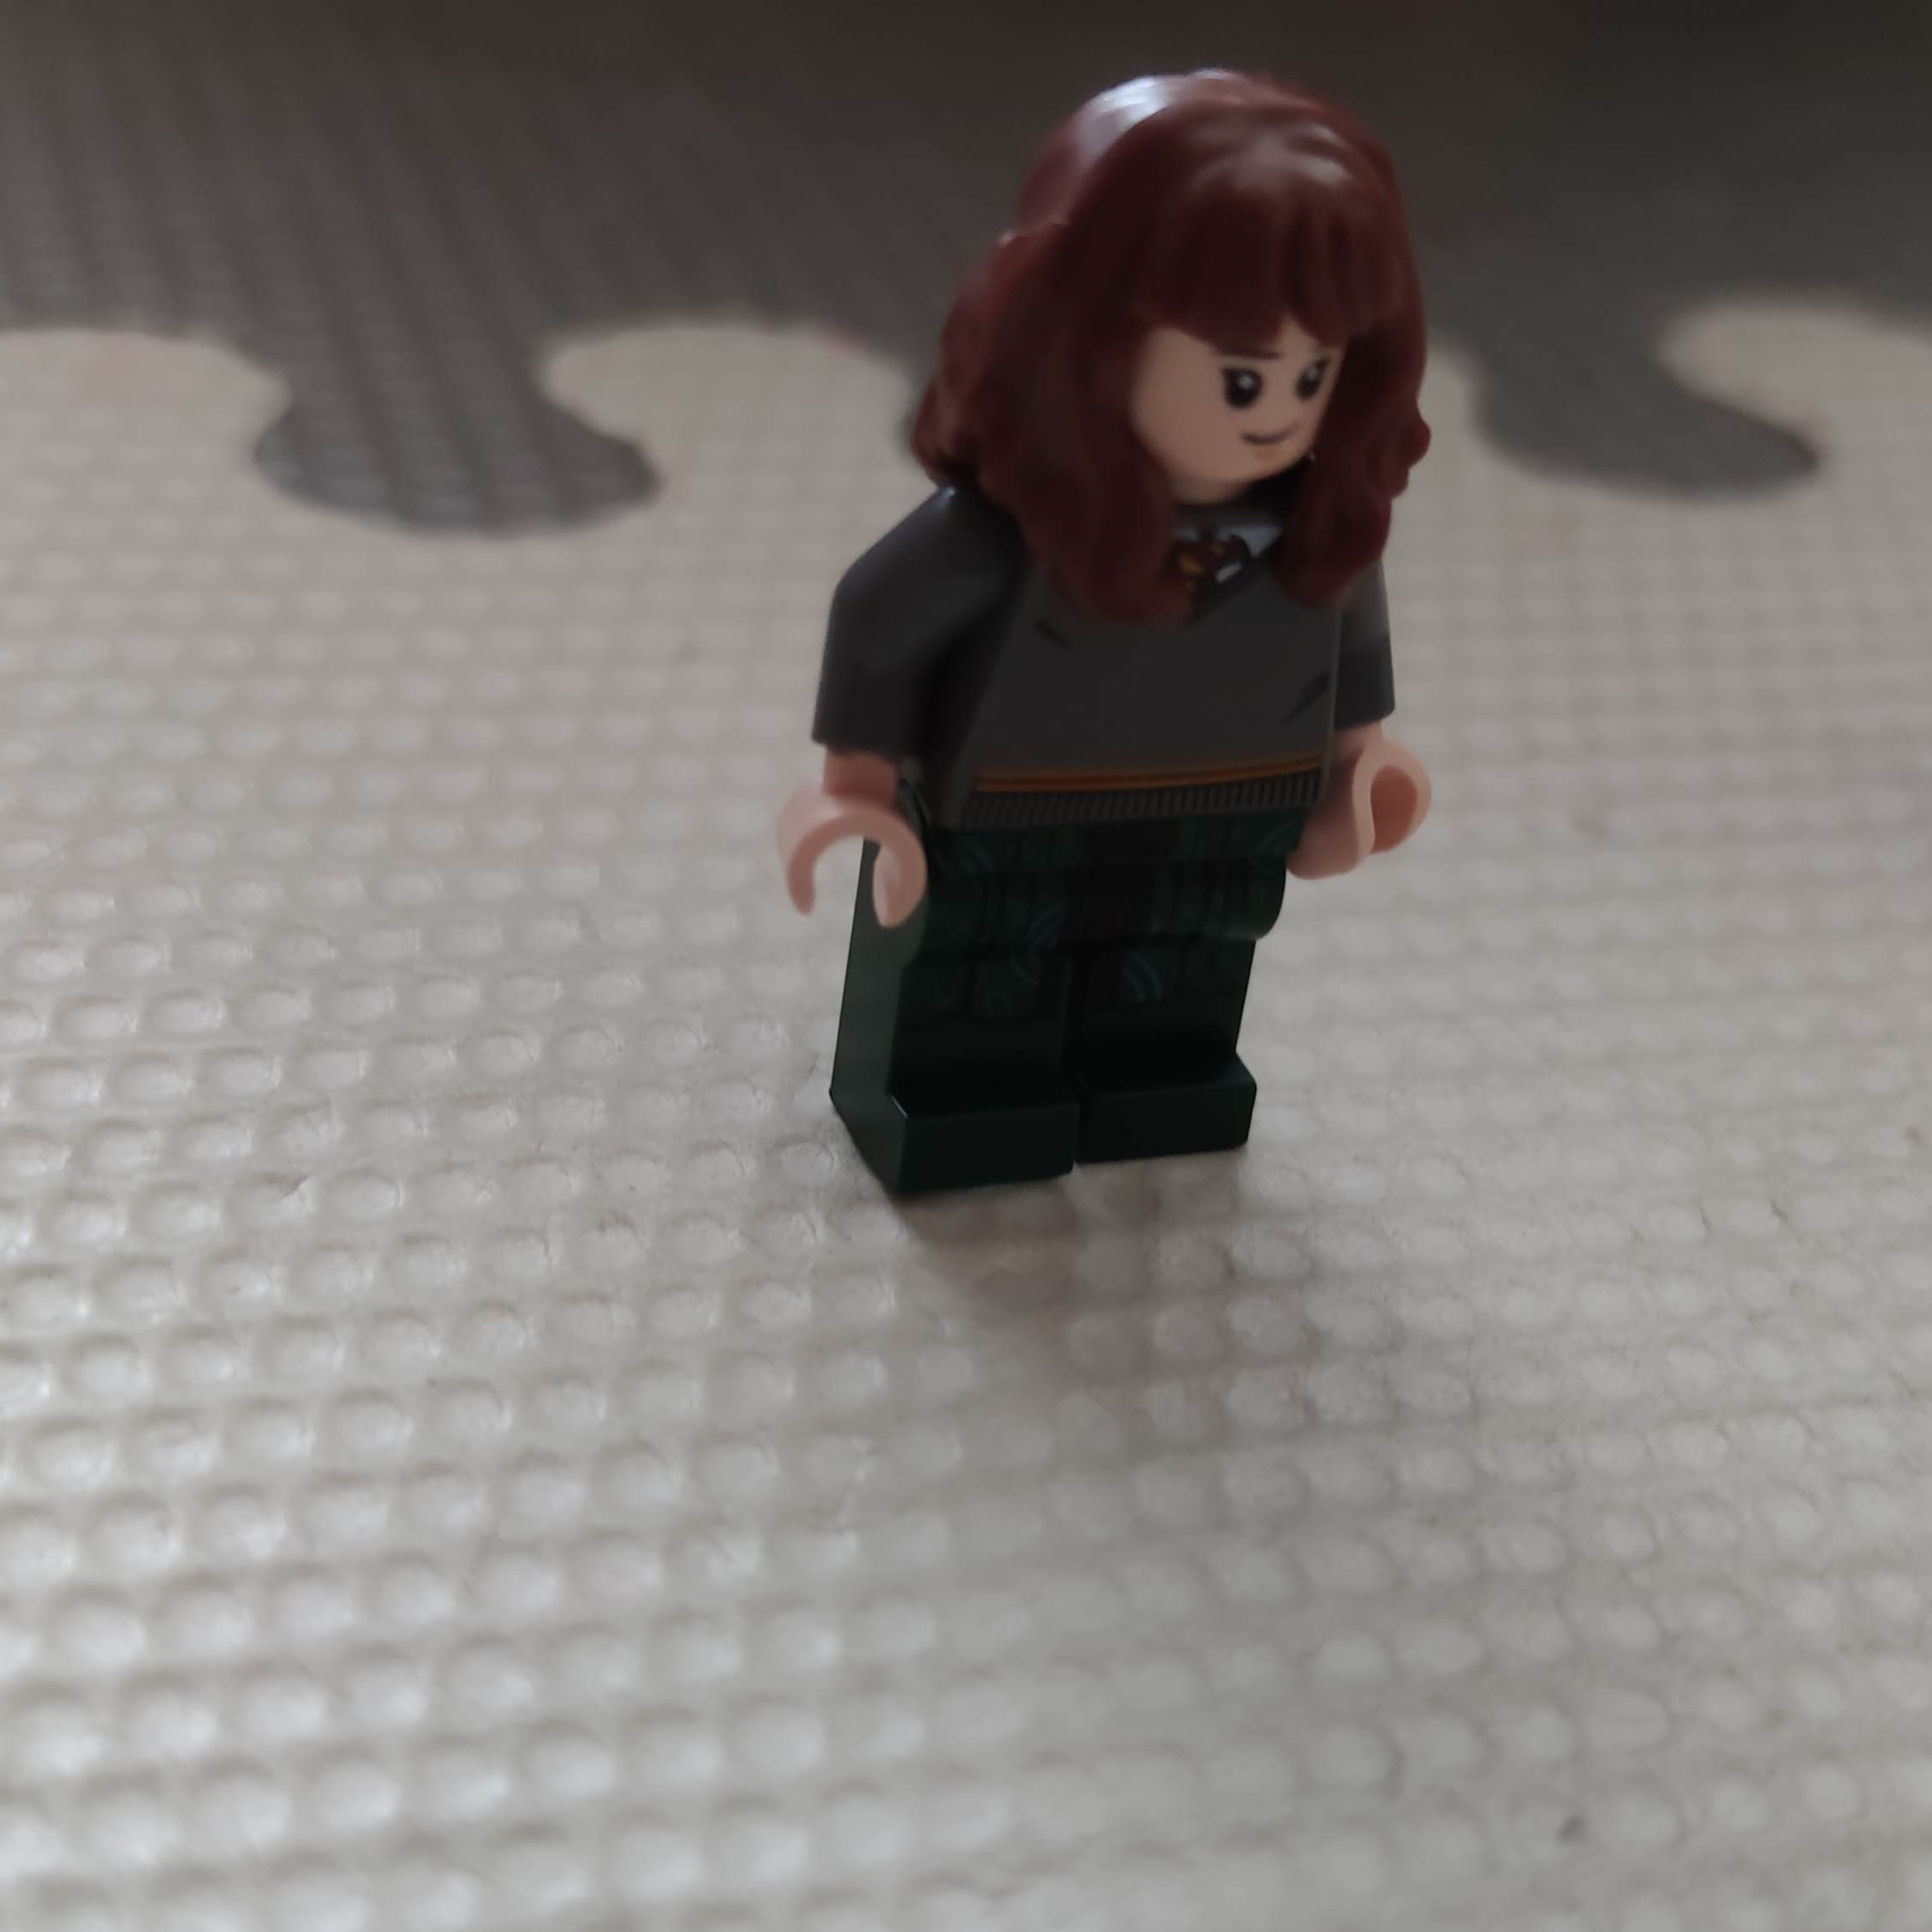lego: (780, 71, 1437, 1207)
